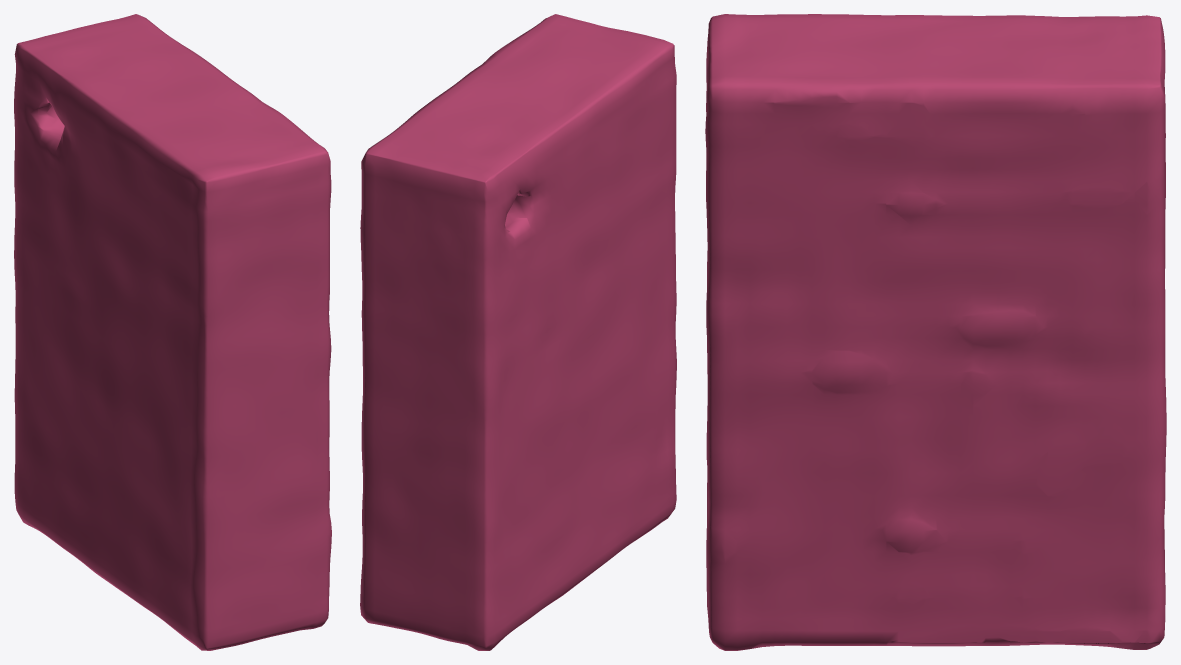
The model's file is wardrobe_13_3.obj.
3 views of the same model, side by side, from view 1: azimuth 30°, elevation 25°; view 2: azimuth 150°, elevation 25°; view 3: azimuth 270°, elevation 25° (orthographic). The views are drawn at different scales.
Bounding box in the file's own units: 0.2361 × 0.7929 × 0.5808.
